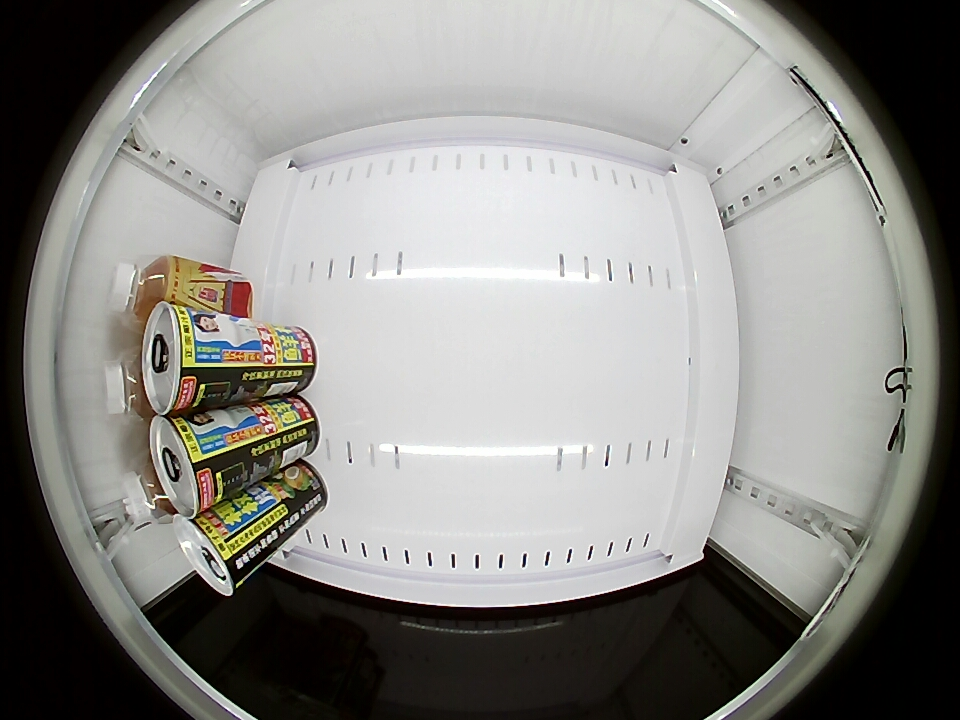dongpeng-b: (107, 255, 180, 328), (100, 353, 153, 423), (120, 461, 175, 525)
yezhi: (142, 302, 217, 415), (149, 412, 225, 517), (175, 511, 251, 597)
